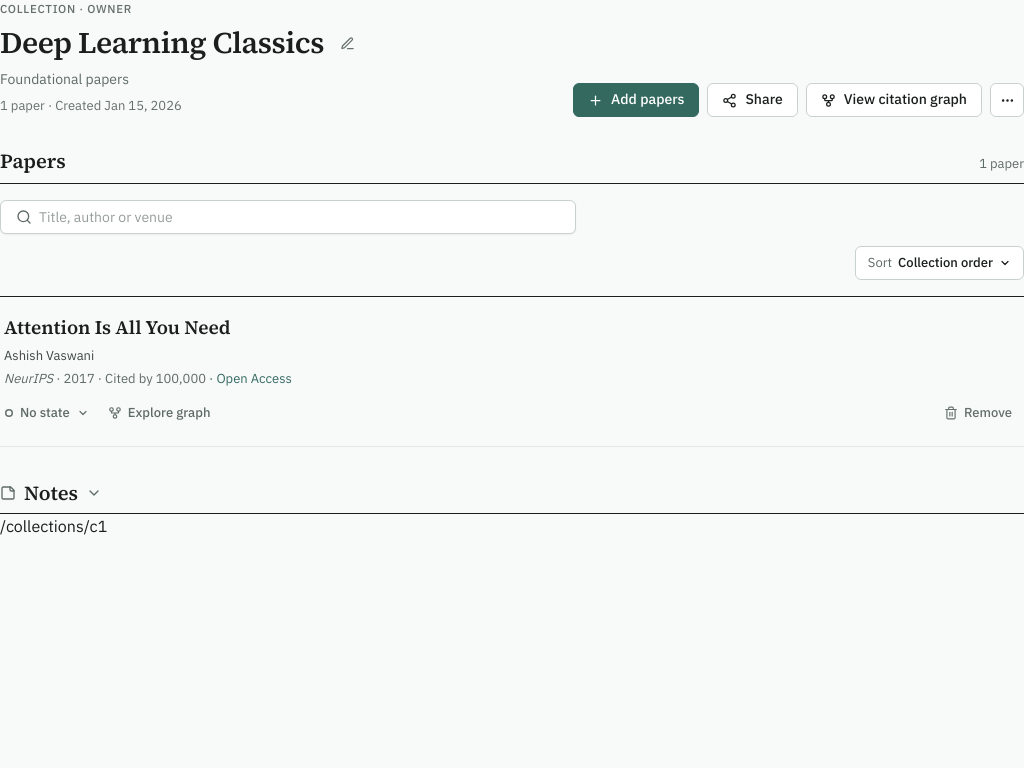
Test: CollectionDetailPage — import › summarizes the paste live and blocks an import with nothing valid
Click the button named "More actions": (1007, 100) [990, 83, 1023, 117]
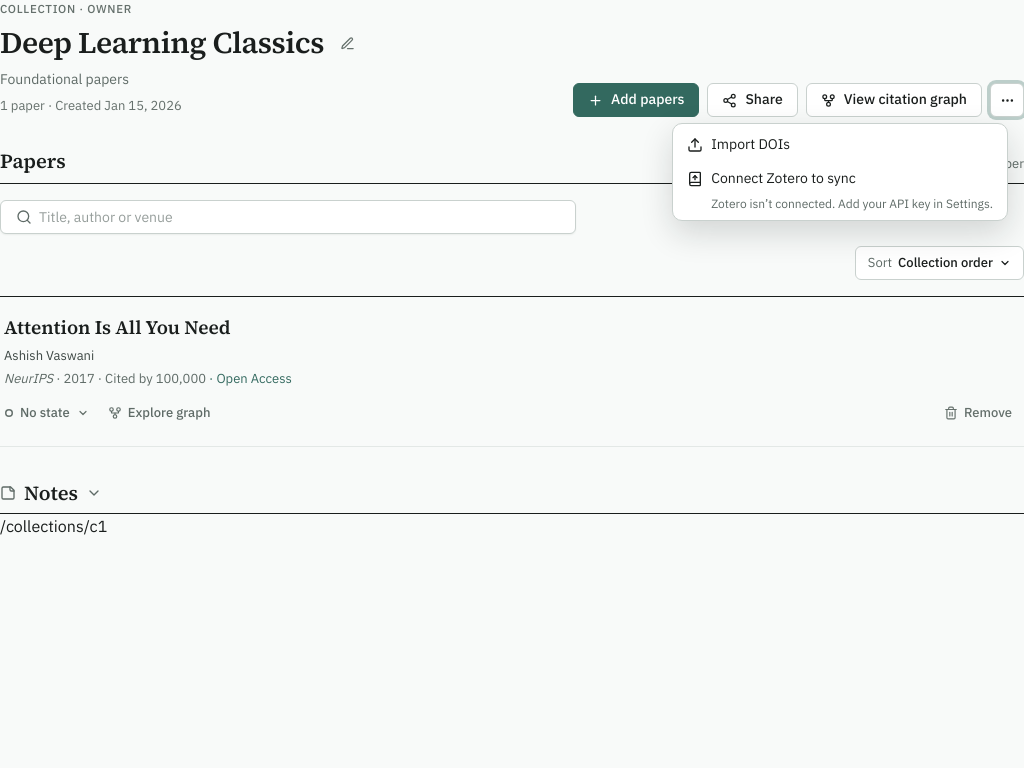
Click the menu item "Import DOIs": (751, 144) [677, 128, 1003, 162]
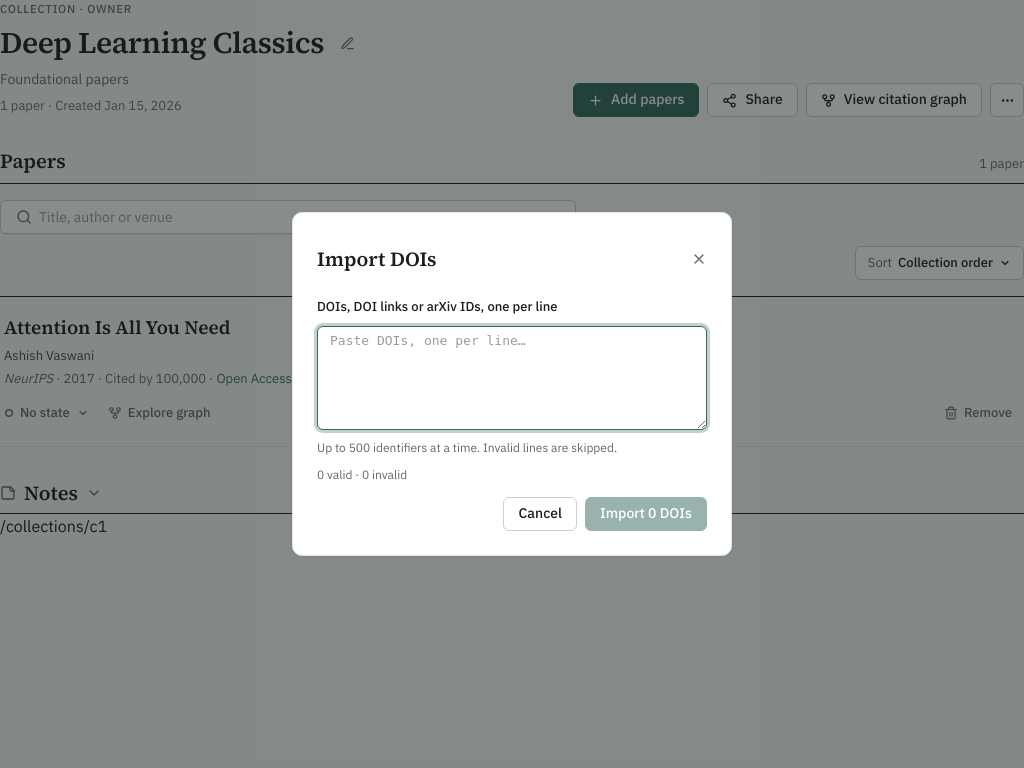
In the text box labelled "DOIs, DOI links or arXiv IDs, one per line": (512, 378) [317, 326, 707, 430], type "not-a-doi"
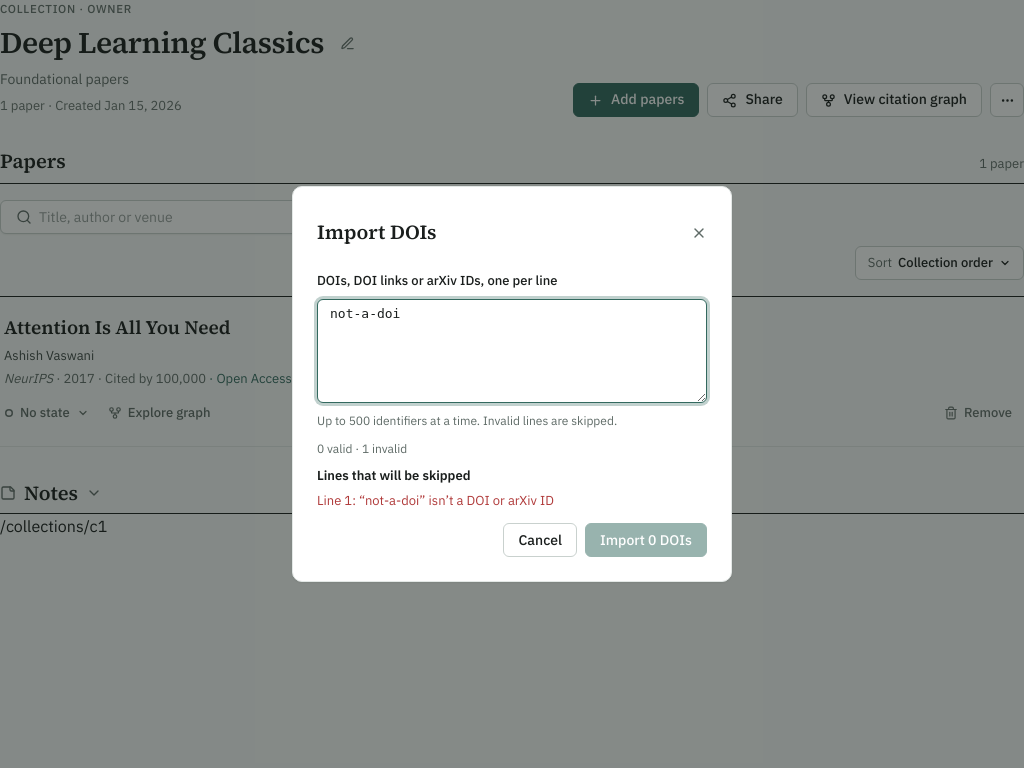
Expected: the button "Import 0 DOIs" is disabled, [585, 523, 707, 557]
Expected: the text "0 valid · 1 invalid" is shown, [317, 441, 407, 456]
Expected: the list item "Line 1: “not-a-doi” isn’t a DOI or arXiv ID" is shown, [317, 492, 554, 509]
